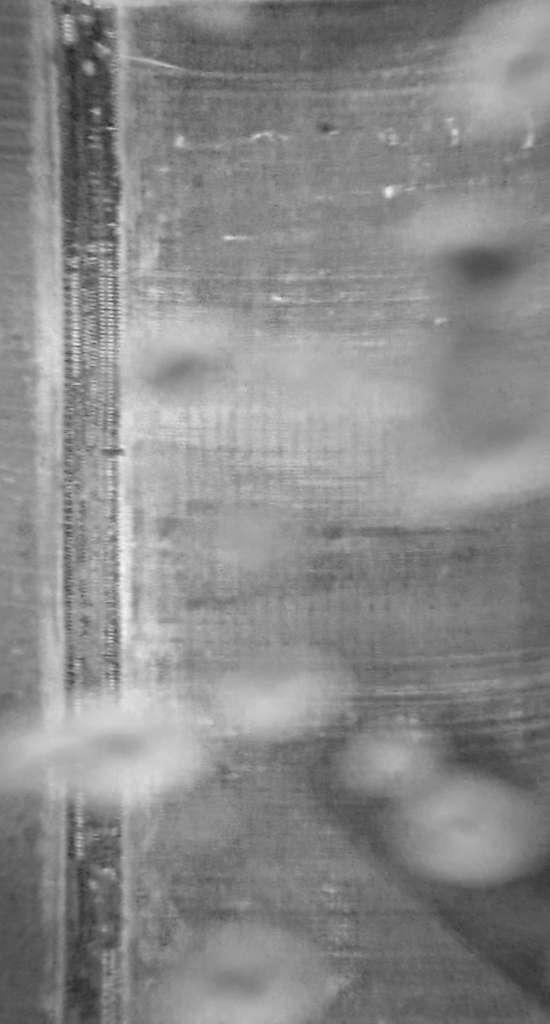splice: (54, 1, 137, 1024)
